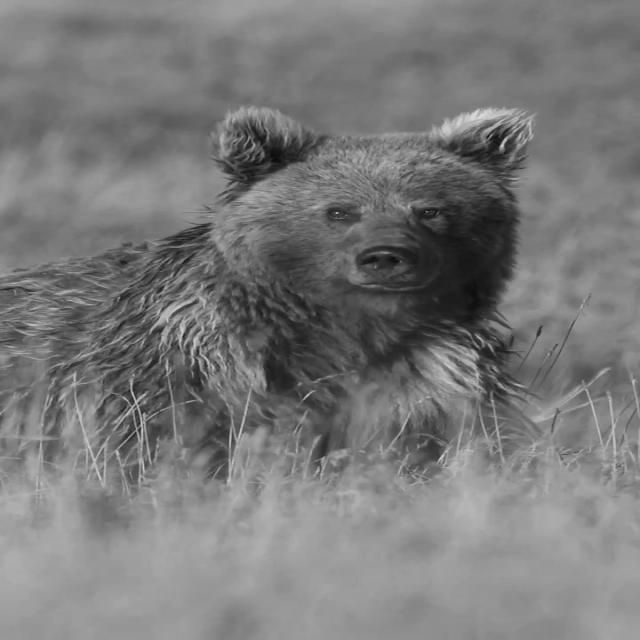Bear: (0, 104, 547, 501)
